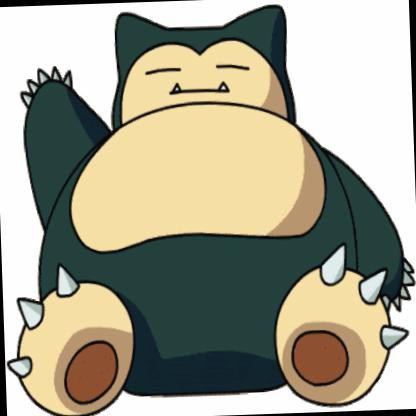Snorlax: (1, 1, 406, 416)
